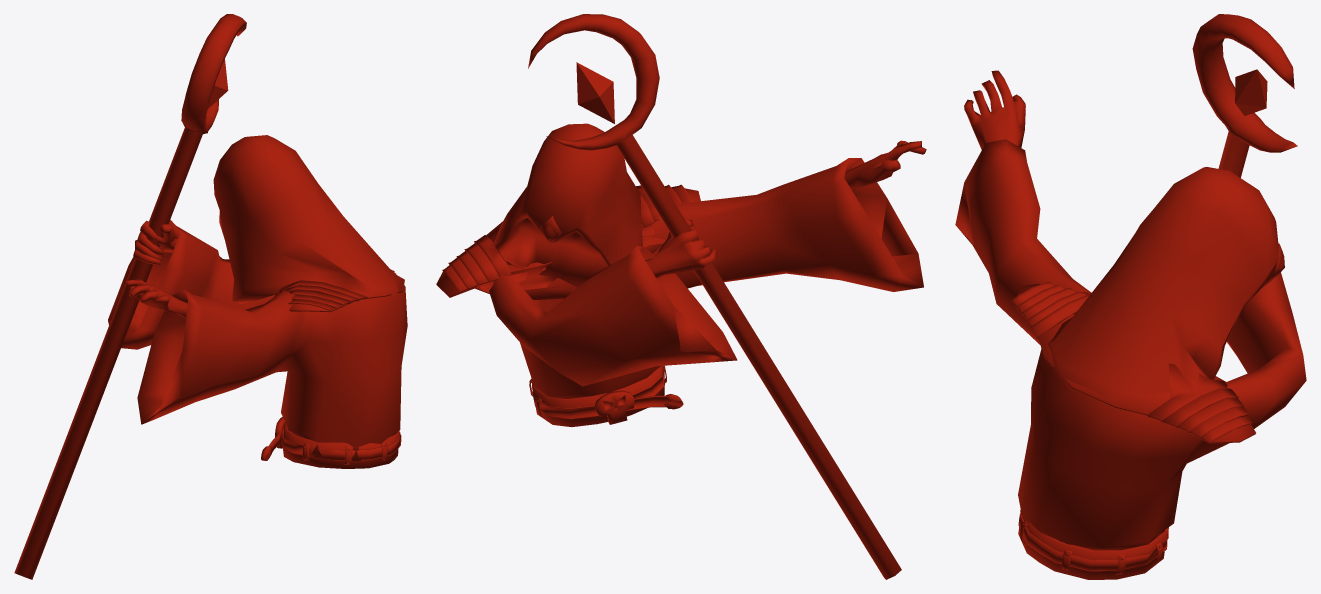
File: top_000055.obj
3 renders of one model, left to right at view 1: azimuth 30°, elevation 25°; view 2: azimuth 150°, elevation 25°; view 3: azimuth 270°, elevation 25°, orthographic. The views are drawn at different scales.
Visible parts, largest first — view 1: LowPoly_Warlock.000_Plane.005; view 2: LowPoly_Warlock.000_Plane.005; view 3: LowPoly_Warlock.000_Plane.005.
Part boxes in pixels (box(x1,y1,x2,y2)): LowPoly_Warlock.000_Plane.005: box(14, 14, 407, 579); LowPoly_Warlock.000_Plane.005: box(436, 14, 926, 579); LowPoly_Warlock.000_Plane.005: box(955, 14, 1306, 579).
Bounding box in the file's own units: 1.43 × 1.67 × 0.9067.
